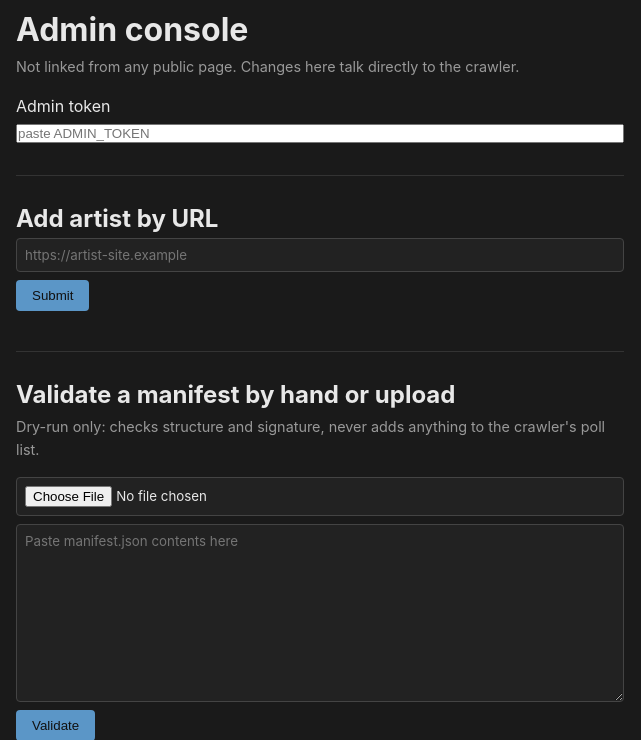
Test: AdminConsole › shows a network/auth error from a rejected submit request
Type "https://x.example" into the field named "artist url" at (320, 255), box x1=16 y1=238 x2=624 y2=272
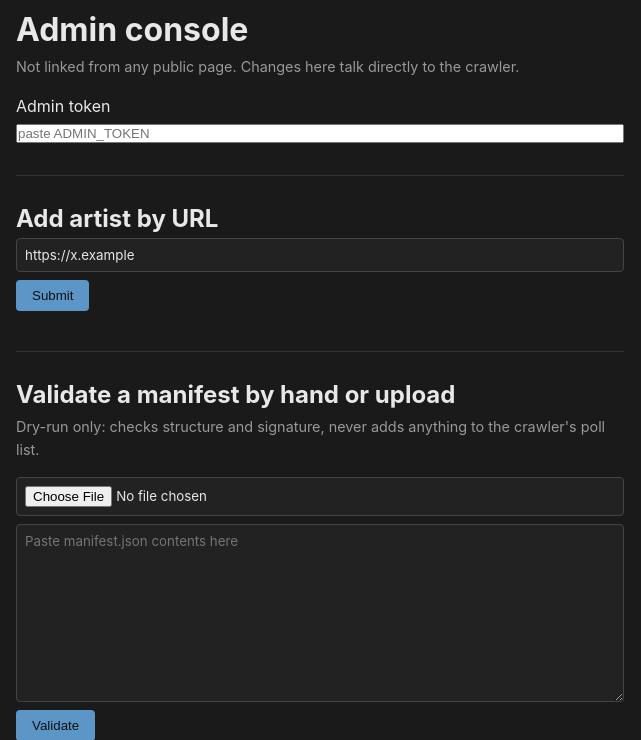
Click the button "Submit" at (53, 296), box x1=16 y1=280 x2=90 y2=311
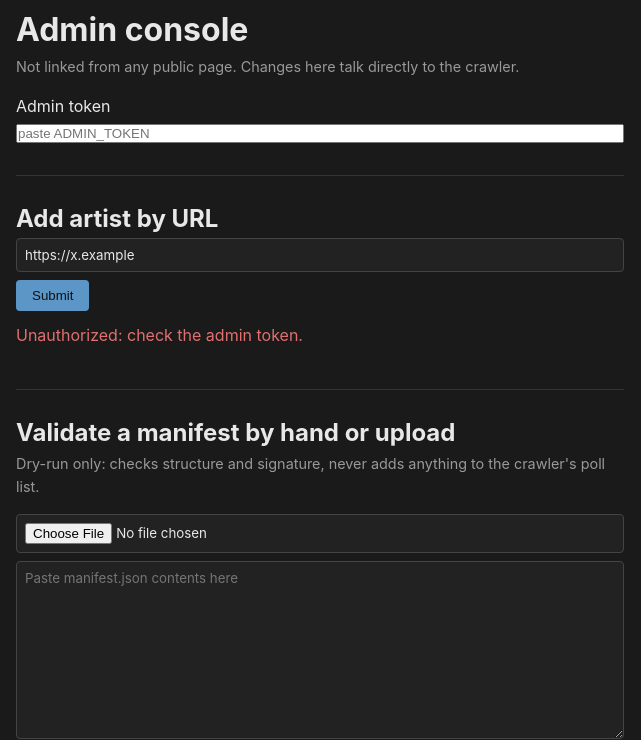
Now the text "Unauthorized: check the admin token." is shown, box x1=16 y1=325 x2=303 y2=345
